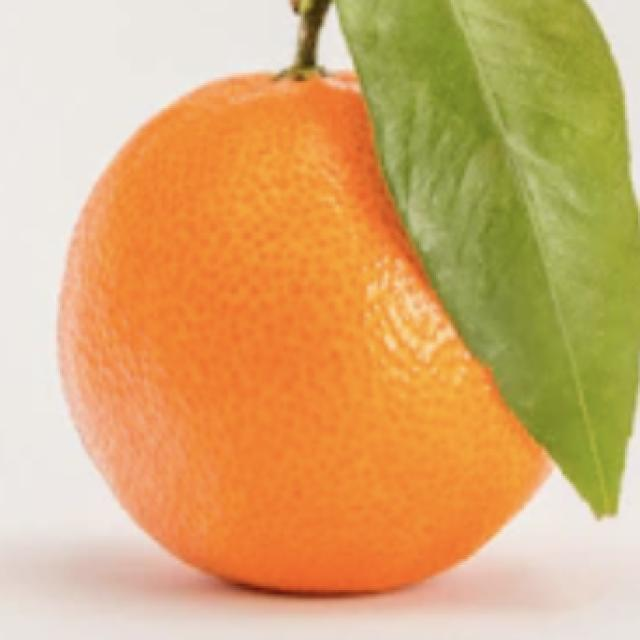Orange: (55, 66, 555, 595)
